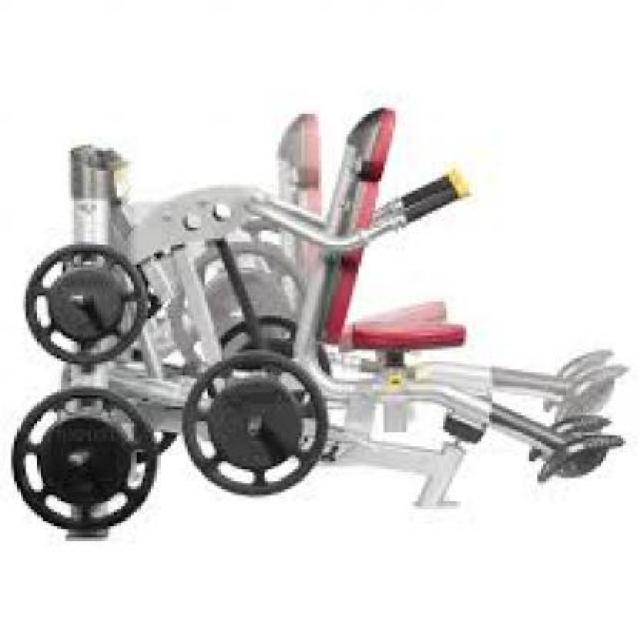seated dip machine: (9, 88, 637, 550)
